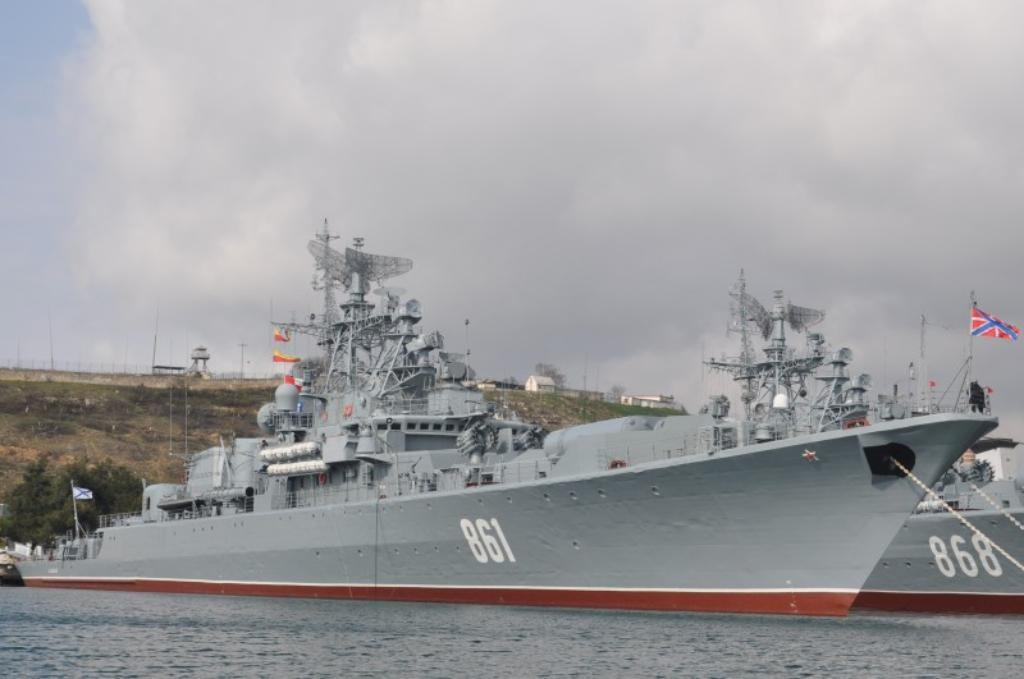Warship: (17, 220, 997, 620)
